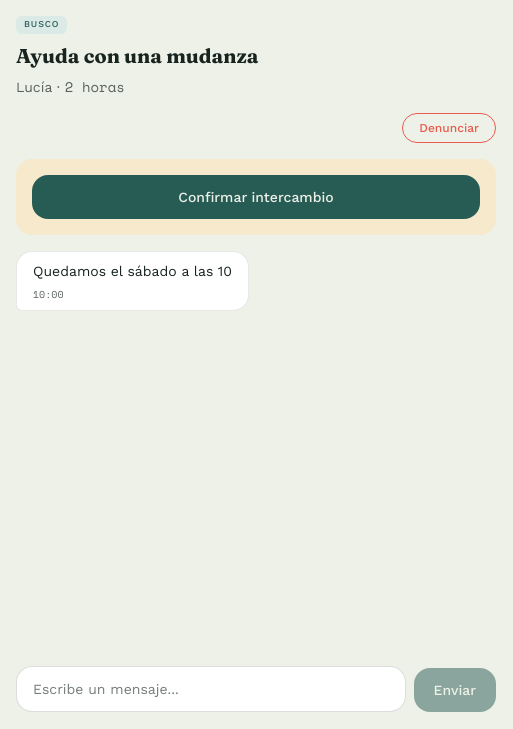
Test case: Chat abierto o en solo lectura según el estado del intercambio › si el chat se cierra mientras escribes, pasa a solo lectura
This screenshot has width=513, height=729.
Type "Hola, ¿sigues ahí?" into the text box labelled "Escribe un mensaje..." at (211, 689), box 16,666 -> 406,712
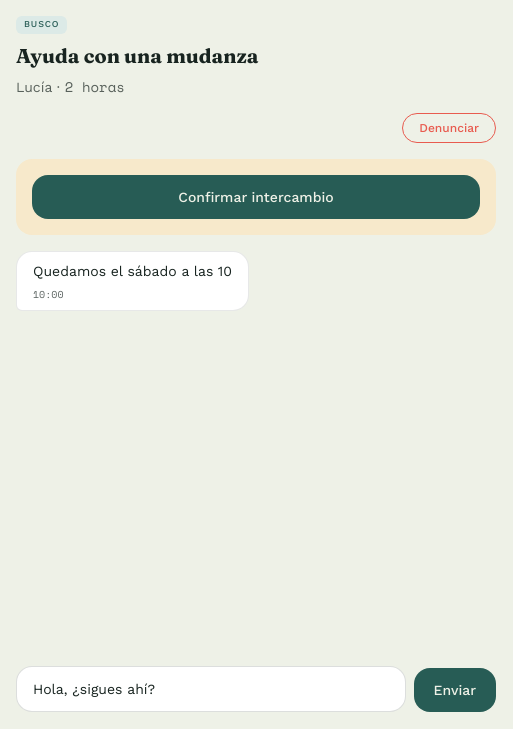
Click the button "Enviar" at (455, 690), box 414,668 -> 496,712
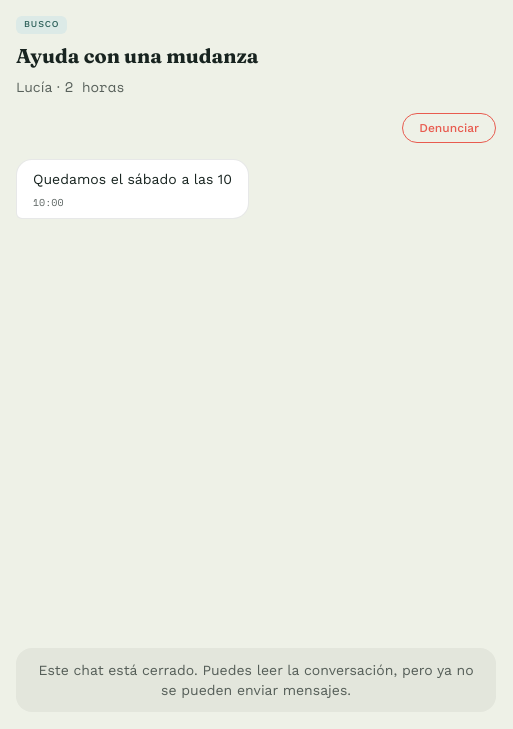
Expected: the field labelled "mensaje" is not shown
Expected: the text "chat está cerrado" is shown, 38,662 -> 474,698
